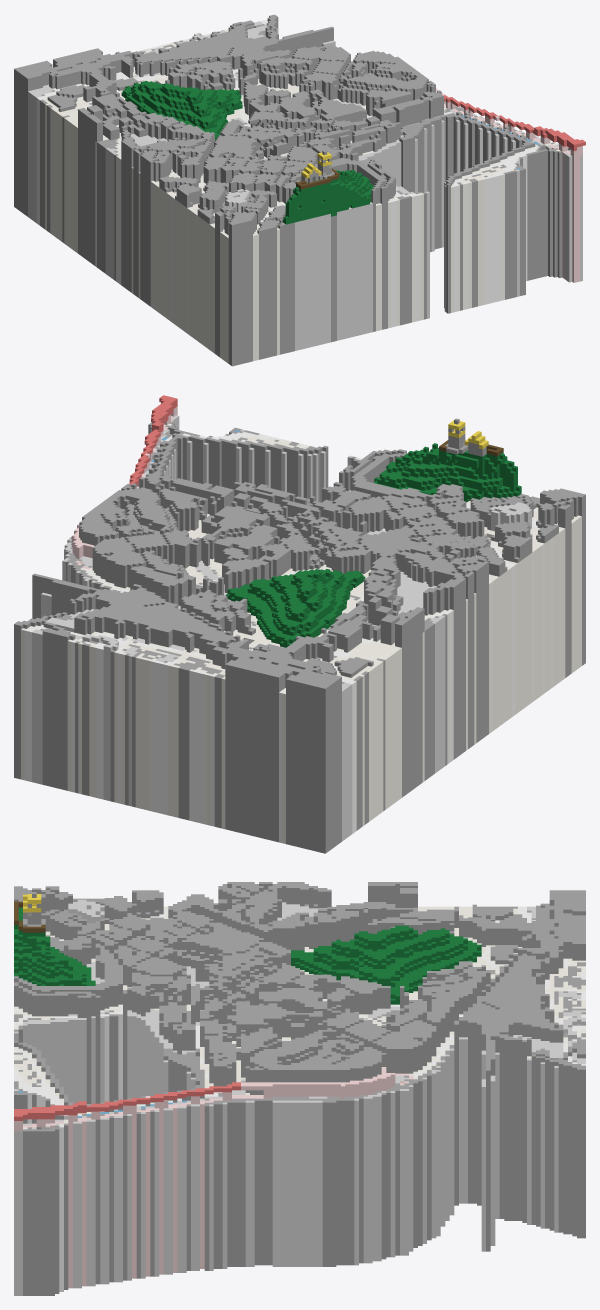
The model's file is 200607 macau ver4-2.obj.
3 renders of one model, top to bottom at view 1: azimuth 30°, elevation 25°; view 2: azimuth 150°, elevation 25°; view 3: azimuth 270°, elevation 25°, orthographic. The views are drawn at different scales.
Bounding box in the file's own units: 11.8 × 5.9 × 12.6.
Materials: 1 (1 with a texture image).
